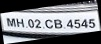character: (44, 18, 53, 29), (15, 17, 24, 27), (53, 19, 62, 28), (6, 18, 16, 26), (88, 17, 95, 28), (27, 18, 34, 28), (34, 18, 41, 28), (66, 19, 73, 29), (80, 19, 87, 28), (74, 19, 80, 28)
